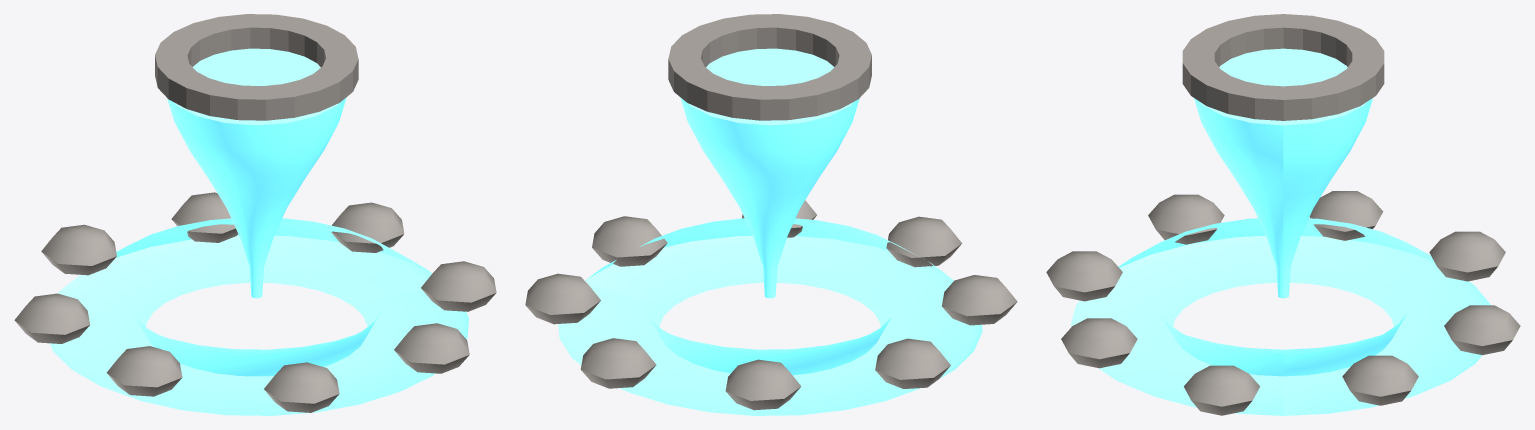
File: vfx-mesh-library-hover-jet-cone-0eb53517.glb
3 renders of one model, left to right at view 1: azimuth 30°, elevation 25°; view 2: azimuth 150°, elevation 25°; view 3: azimuth 270°, elevation 25°, orthographic.
Visible parts, largest first — view 1: hover-jet-cone; view 2: hover-jet-cone; view 3: hover-jet-cone.
Boxes of the visible parts, left/top/right/bottom form: hover-jet-cone: left=14, top=14, right=496, bottom=415; hover-jet-cone: left=525, top=14, right=1017, bottom=415; hover-jet-cone: left=1046, top=14, right=1520, bottom=415.
Bounding box in the file's own units: 1.02 × 0.65 × 1.03.
